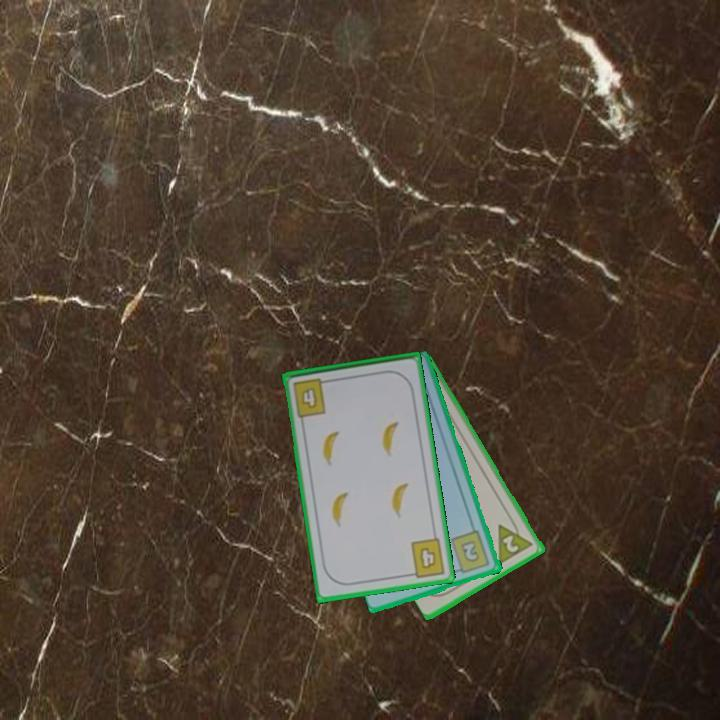2b: (448, 527, 493, 577)
2p: (494, 514, 536, 567)
4b: (289, 374, 333, 420), (404, 535, 448, 580)
